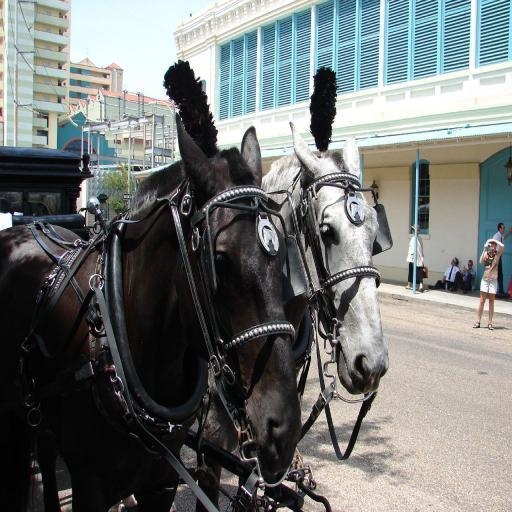horse: (0, 112, 303, 510), (196, 119, 390, 512)
